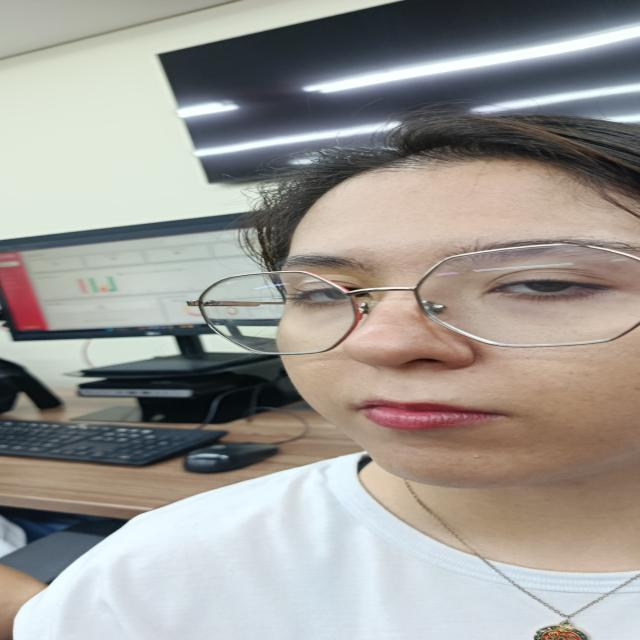sem_oculos: (194, 241, 640, 355)
